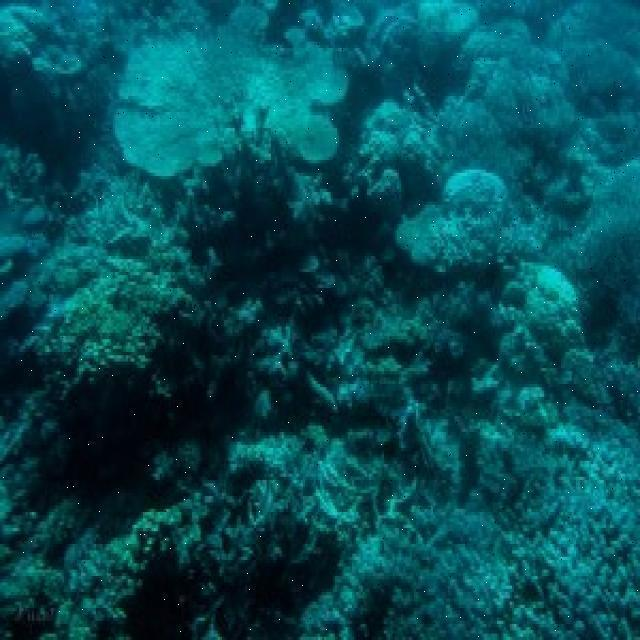Bleached: (235, 434, 638, 640), (396, 1, 640, 269), (113, 28, 346, 182), (355, 96, 503, 194), (1, 4, 97, 79), (508, 263, 581, 342)
Healthy: (1, 495, 267, 639), (26, 205, 203, 378), (389, 498, 469, 640), (476, 428, 549, 524)
